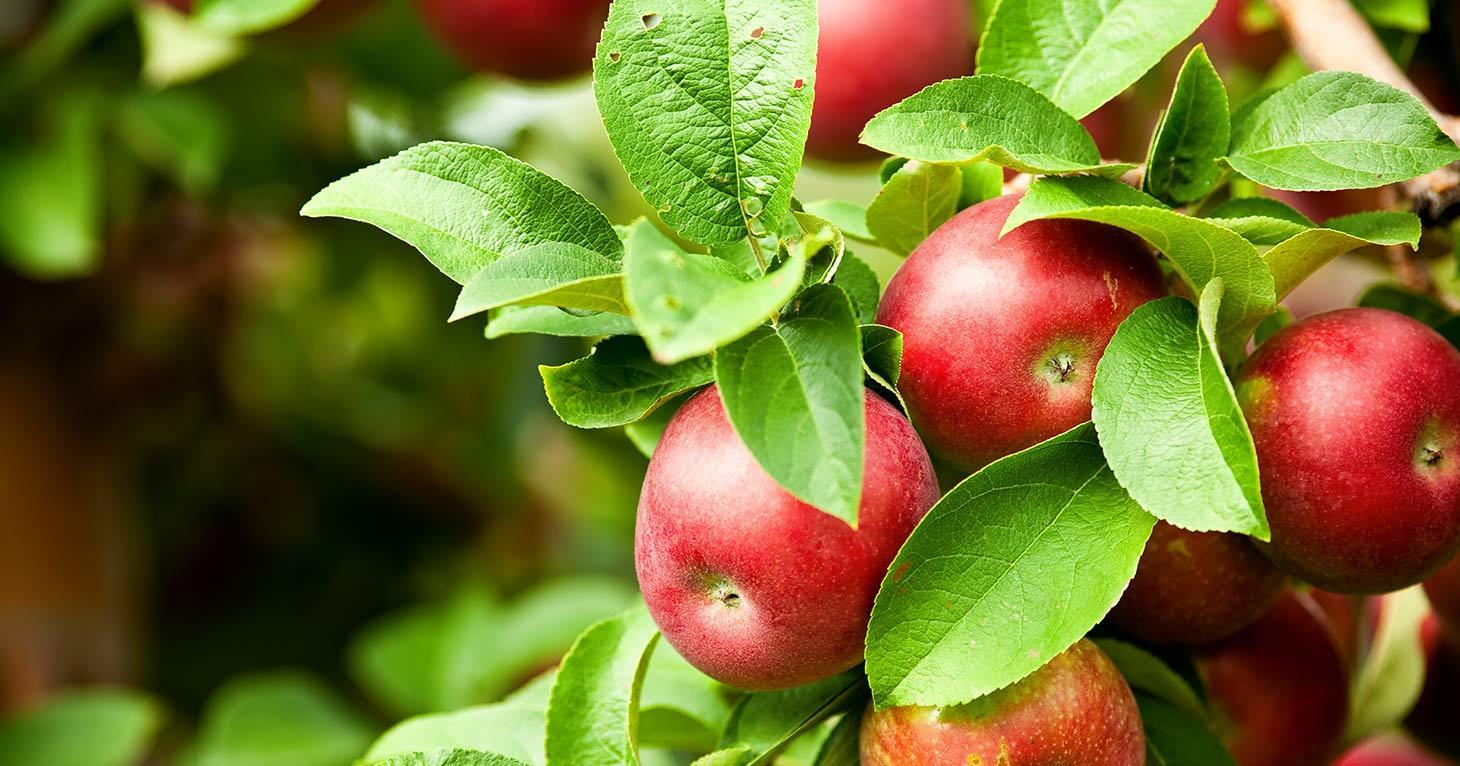apple: (636, 373, 937, 685), (876, 185, 1169, 475), (1237, 308, 1460, 597), (861, 640, 1147, 765)
